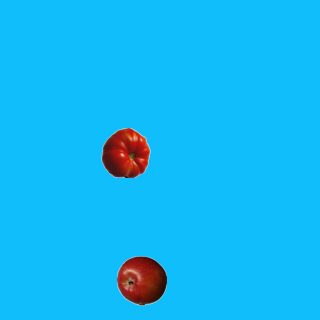Apple Braeburn: (116, 255, 166, 305)
Tomato 3: (100, 127, 150, 177)
